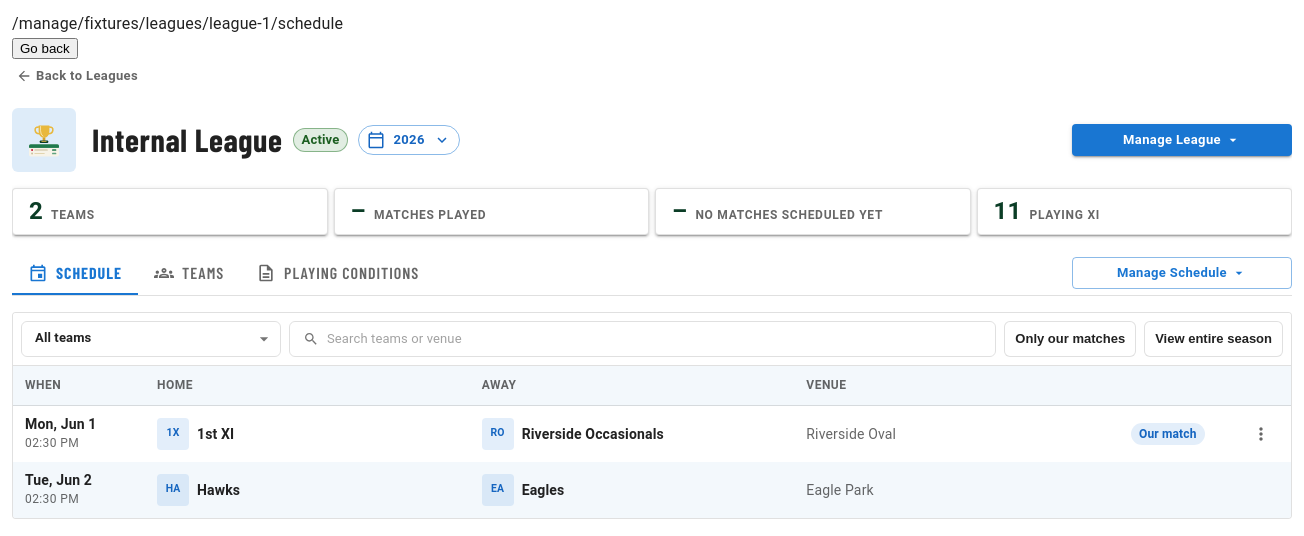
Scenario: LeagueScheduleView › filters (091) › the Team select narrows to a club team or a league team, and All teams clears it
Click the dropdown labelled "team" at {"x": 63, "y": 338}, box [35,330,91,345]
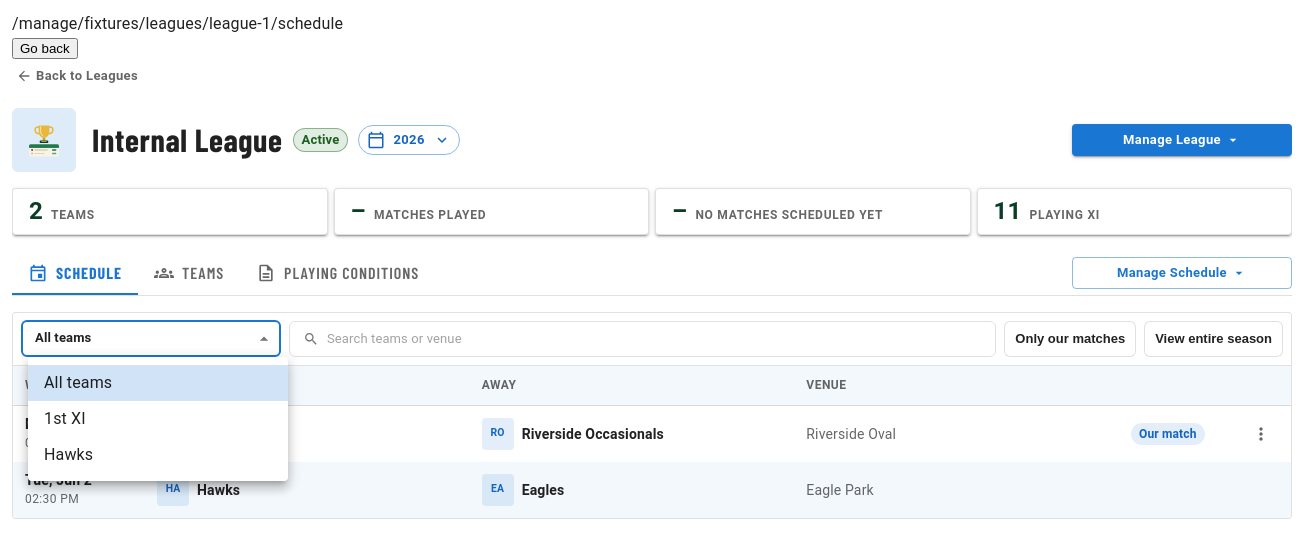
Click the option "Hawks" at {"x": 69, "y": 454}, box [44,445,93,464]
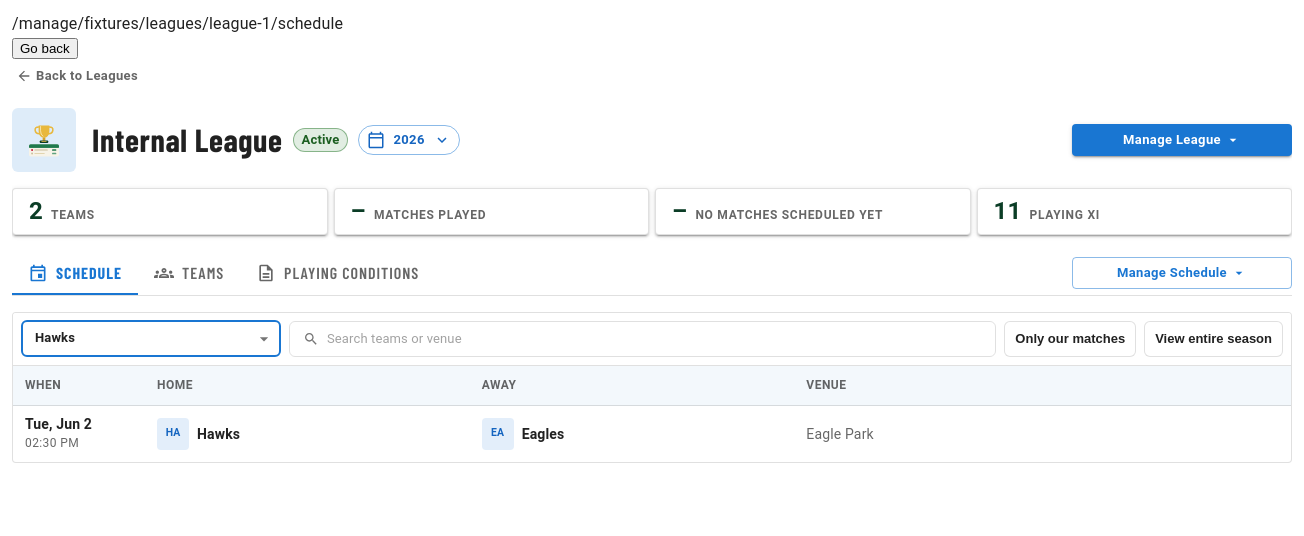
Now the number of rows with test id "fixture-row" is 1, box [25,416,874,450]
Click the dropdown named "Team" at {"x": 55, "y": 338}, box [35,330,75,345]
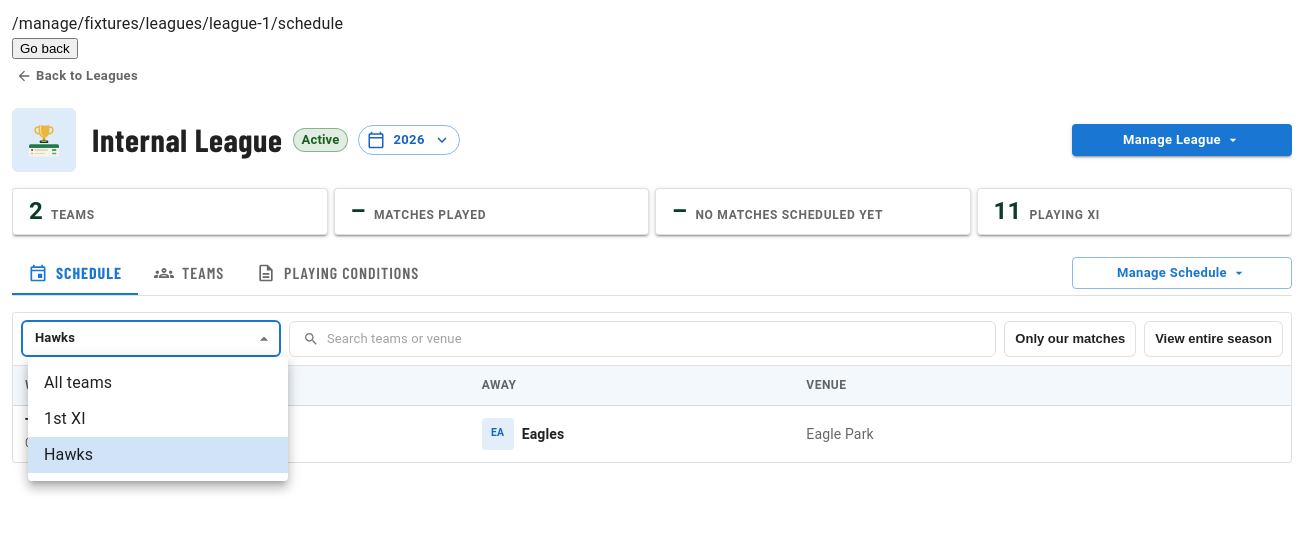
Click the option "All teams" at {"x": 78, "y": 382}, box [44,373,112,392]
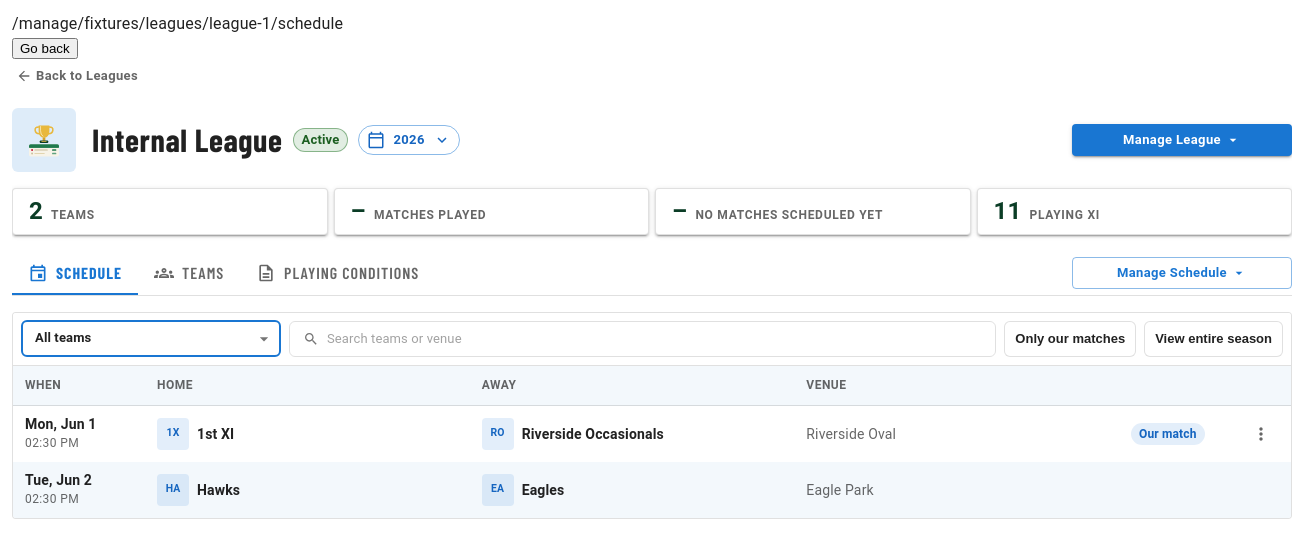
Now the number of rows with test id "fixture-row" is 2, box [13,406,1291,462]; [13,462,1291,518]
